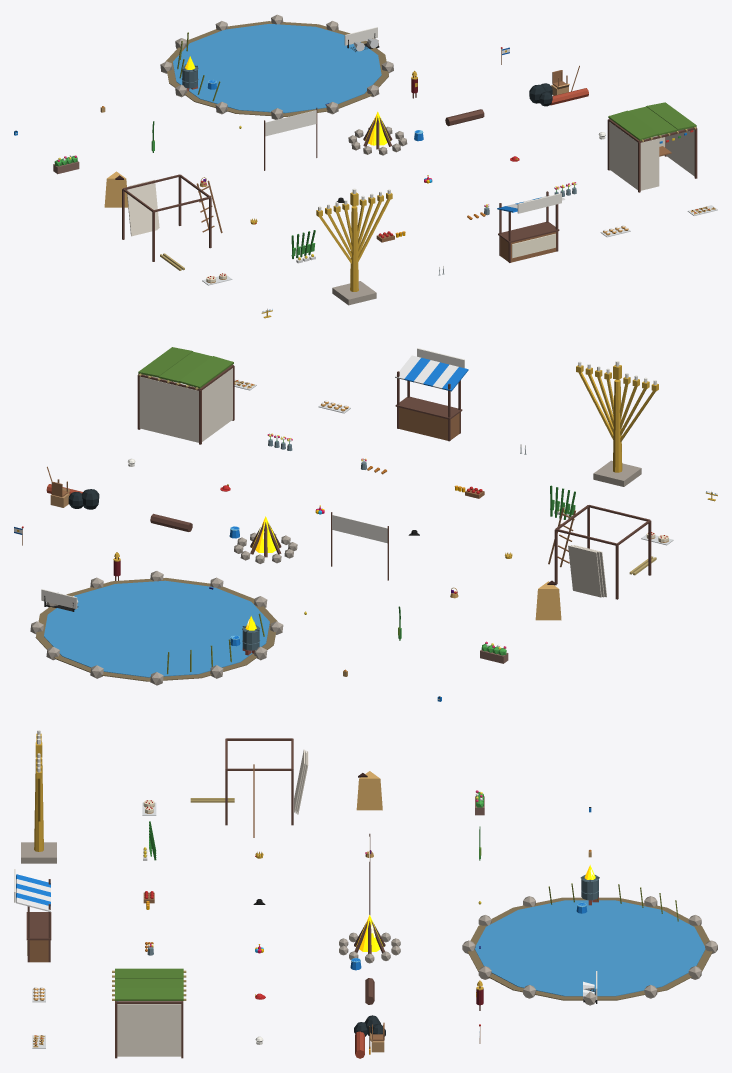
Rendered from seasons_props.glb.
The picture shows the model from 3 angles, top to bottom: view 1: azimuth 30°, elevation 25°; view 2: azimuth 150°, elevation 25°; view 3: azimuth 270°, elevation 25°; orthographic projection. The views are drawn at different scales.
Parts seen in each view (by area): view 1: Pond_body, Sukkah_body, BigMenorah_body, SukkahFrame_body, Stand_body, KerbPile_body, Bonfire_body, Banner_body, Hamantash_body, SpeakerKit_body, Lulavim_body; view 2: Pond_body, Sukkah_body, Stand_body, BigMenorah_body, SukkahFrame_body, Bonfire_body, KerbPile_body, Banner_body, Hamantash_body, SpeakerKit_body; view 3: Pond_body, Sukkah_body, Stand_body, SukkahFrame_body, BigMenorah_body, Bonfire_body, KerbPile_body, Hamantash_body, BurnBarrel_body.
Boxes of the visible parts, box(x1,y1,x2,y2) form: Pond_body: box(160, 14, 393, 119); Sukkah_body: box(607, 102, 697, 192); BigMenorah_body: box(316, 188, 392, 305); SukkahFrame_body: box(122, 174, 222, 270); Stand_body: box(497, 191, 565, 262); KerbPile_body: box(529, 65, 588, 106); Bonfire_body: box(348, 116, 423, 155); Banner_body: box(264, 107, 317, 170); Hamantash_body: box(104, 171, 128, 207); SpeakerKit_body: box(344, 27, 379, 51); Lulavim_body: box(291, 230, 315, 263); Pond_body: box(30, 571, 283, 685); Sukkah_body: box(137, 347, 234, 444); Stand_body: box(395, 348, 468, 441); BigMenorah_body: box(576, 361, 658, 486); SukkahFrame_body: box(548, 505, 656, 599); Bonfire_body: box(229, 522, 297, 563); KerbPile_body: box(46, 466, 99, 509); Banner_body: box(331, 512, 388, 580); Hamantash_body: box(535, 580, 561, 620); SpeakerKit_body: box(41, 589, 78, 611); Pond_body: box(462, 883, 717, 1005); Sukkah_body: box(112, 968, 186, 1058); Stand_body: box(14, 869, 51, 962); SukkahFrame_body: box(190, 738, 308, 837); BigMenorah_body: box(21, 730, 56, 863); Bonfire_body: box(339, 920, 400, 970); KerbPile_body: box(354, 1015, 385, 1058); Hamantash_body: box(356, 771, 382, 810); BurnBarrel_body: box(576, 874, 599, 913).
Size of the model in its own units: 22.74 by 5.25 by 25.55.
